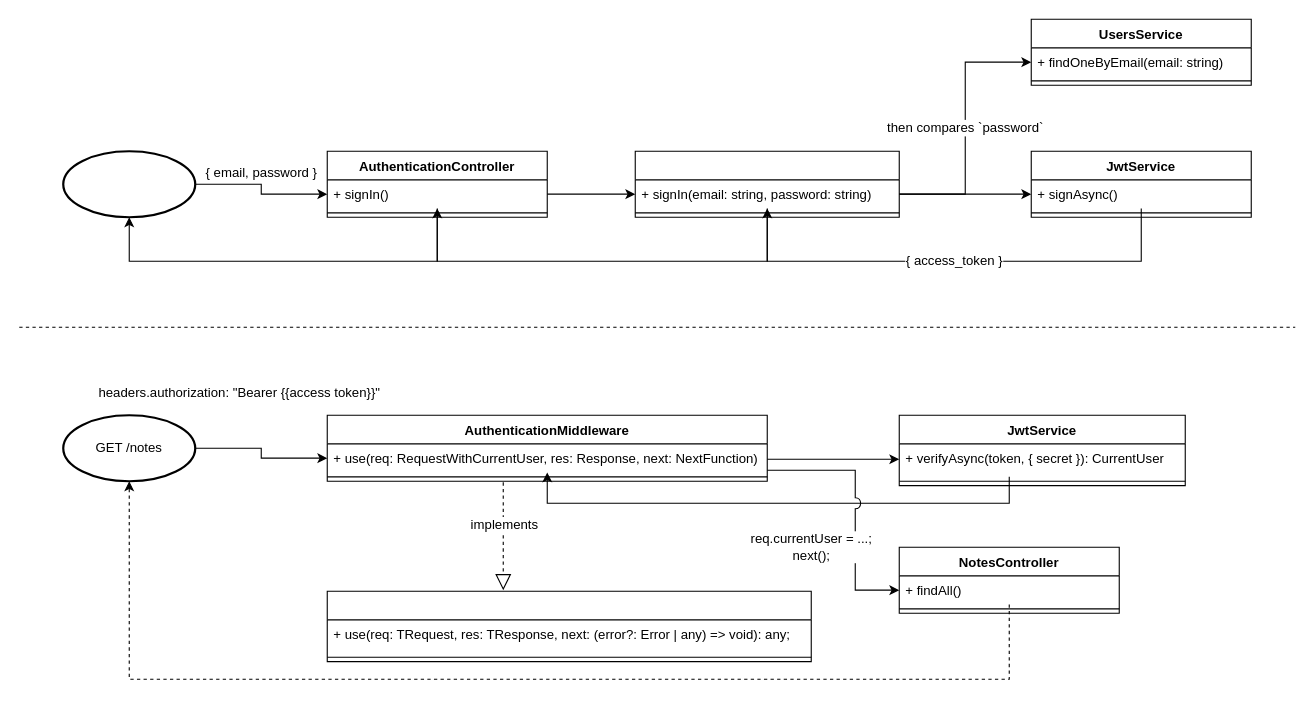
Some shapes in this 1316 by 707 pixel diagram are drawn without their labels. The box of each missing label's shape, as (x1, y1, x2, y2) in pixels:
AuthenticationService: (634, 150, 899, 217)
NestMiddleware: (326, 590, 811, 662)
POST /sign-in: (62, 150, 196, 218)
